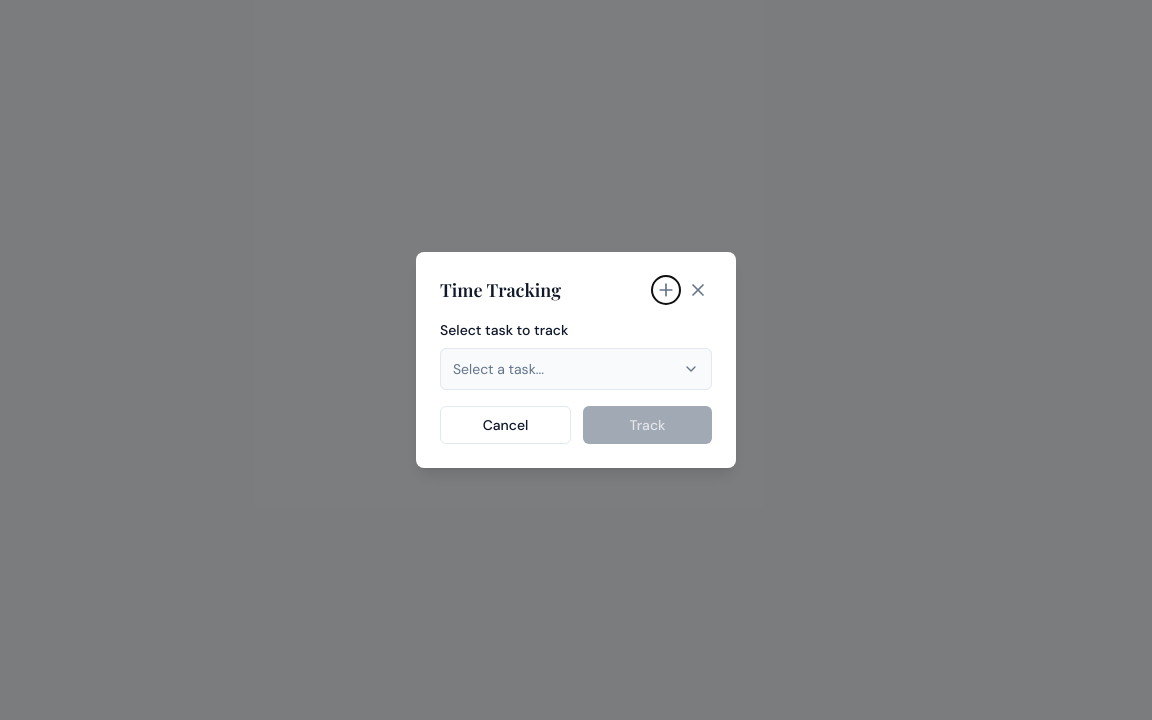
Scenario: TimeTrackingModal › manual entry state › should return to idle state when Cancel clicked
Click the button named "Add manual time entry" at x=666, y=290, box 652,276 -> 680,304
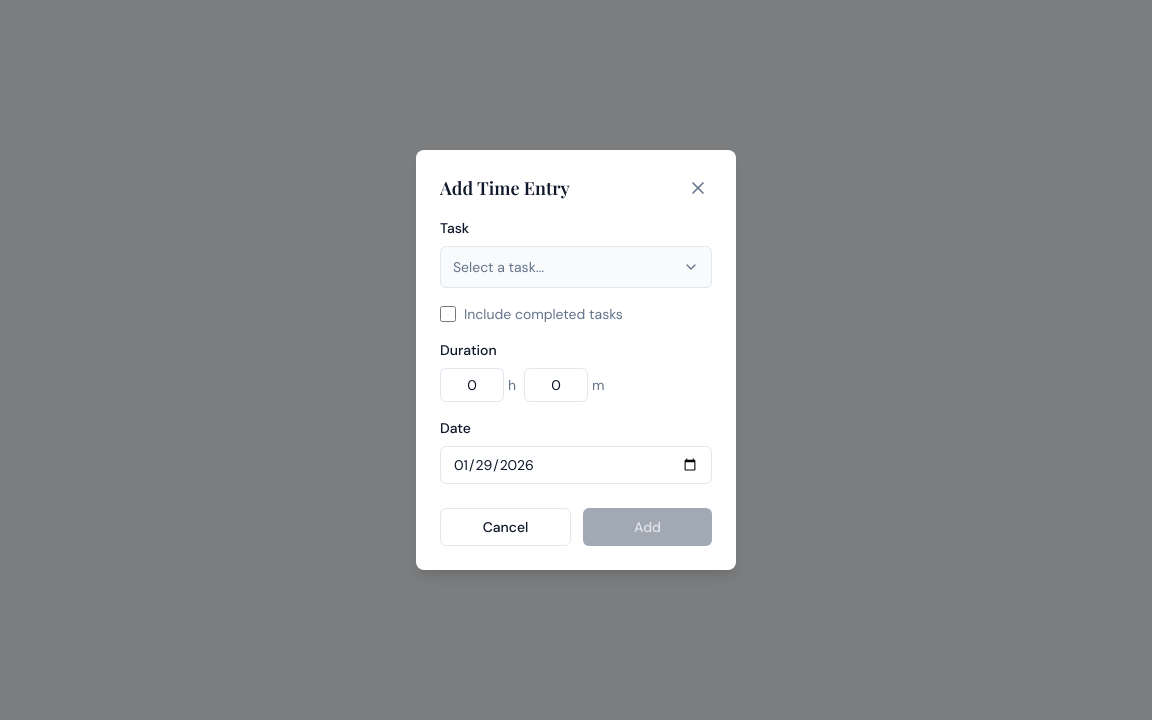
Expected: the heading "Add Time Entry" is shown, 440,174 -> 570,202
Click the button "Cancel" at x=506, y=527, box 440,508 -> 571,546
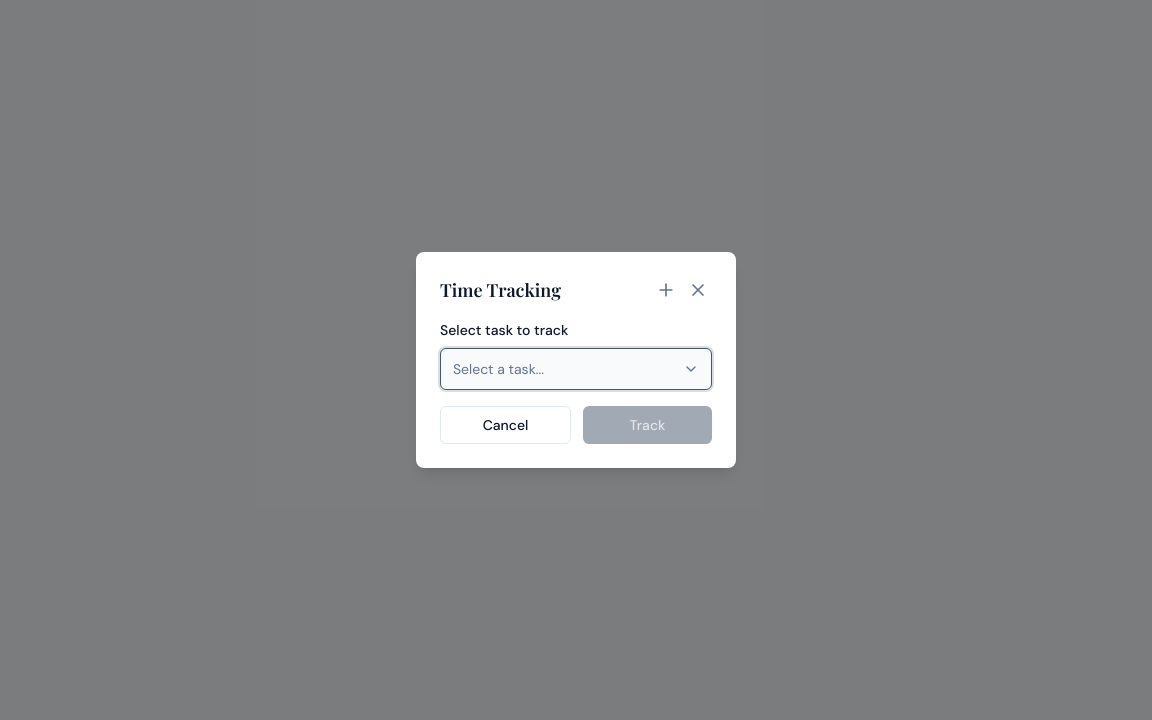
Expected: the heading "Time Tracking" is shown, 440,276 -> 561,304
Expected: the button named "Add manual time entry" is shown, 652,276 -> 680,304
